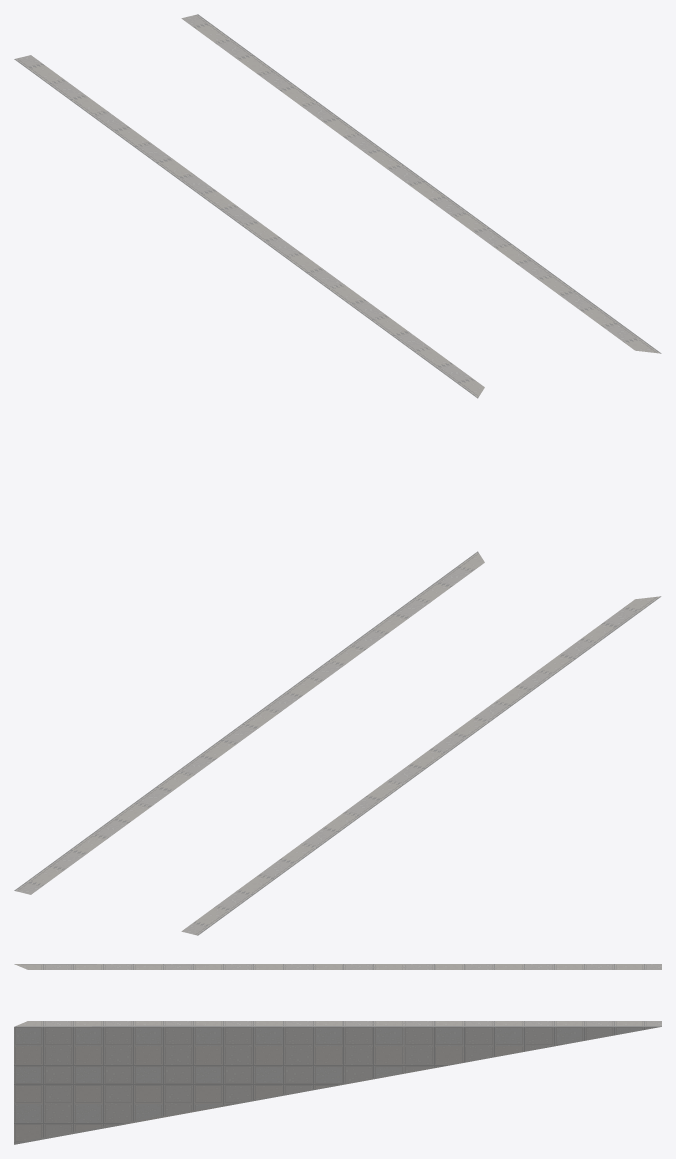
Rendered from kd_stage_135c43_1_2.glb.
3 views of the same model, one above another, from view 1: azimuth 30°, elevation 25°; view 2: azimuth 150°, elevation 25°; view 3: azimuth 270°, elevation 25° (orthographic). The views are drawn at different scales.
Visible parts, largest first — view 1: kd_stage_135c43_1_2; view 2: kd_stage_135c43_1_2; view 3: kd_stage_135c43_1_2.
Boxes of the visible parts, left/top/right/bottom form: kd_stage_135c43_1_2: left=14, top=14, right=661, bottom=398; kd_stage_135c43_1_2: left=14, top=551, right=661, bottom=935; kd_stage_135c43_1_2: left=14, top=964, right=661, bottom=1144.
Bounding box in the file's own units: 3.25 × 2.85 × 14.18.
Materials: 1 (1 with a texture image).
